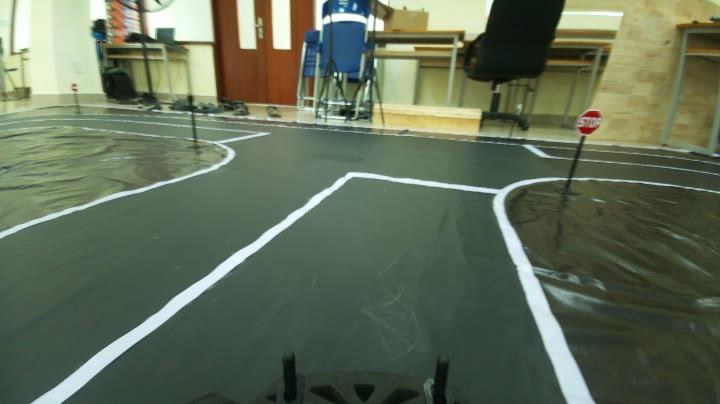stop: (574, 106, 608, 140)
